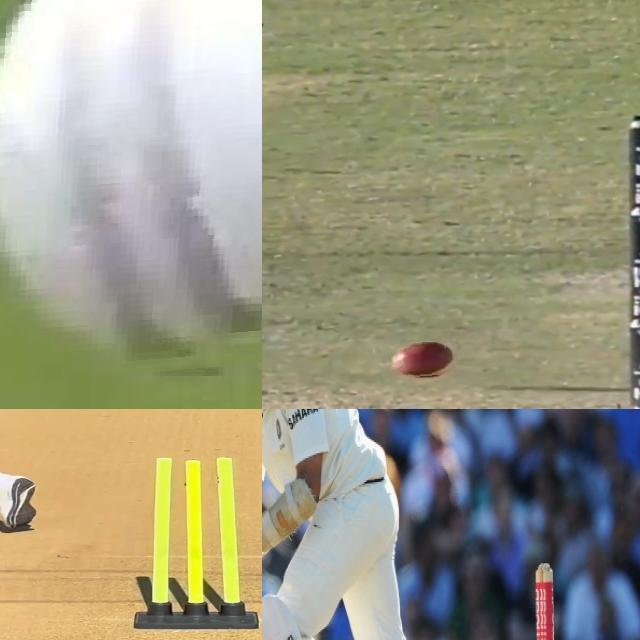Cricket ball: (0, 0, 262, 388), (391, 342, 458, 379)
Stumps: (131, 456, 261, 630)
